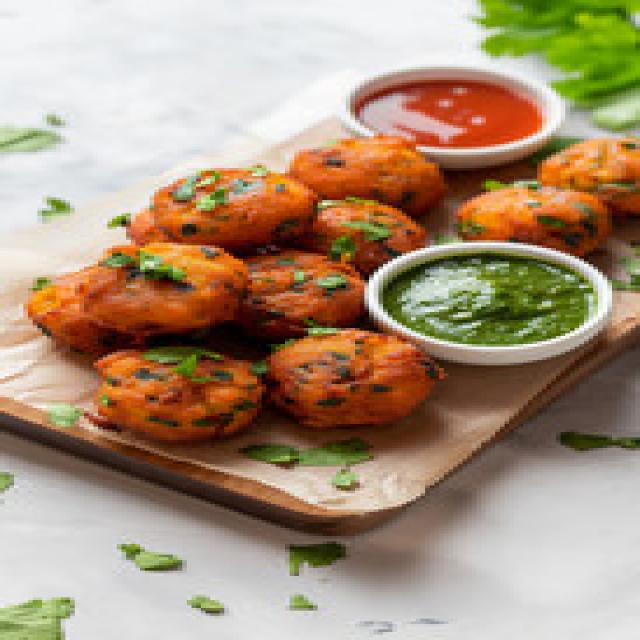BONDA: (8, 137, 635, 511)
GREEN CHUTNEY: (393, 255, 586, 342)
SAUCE: (361, 76, 542, 149)
